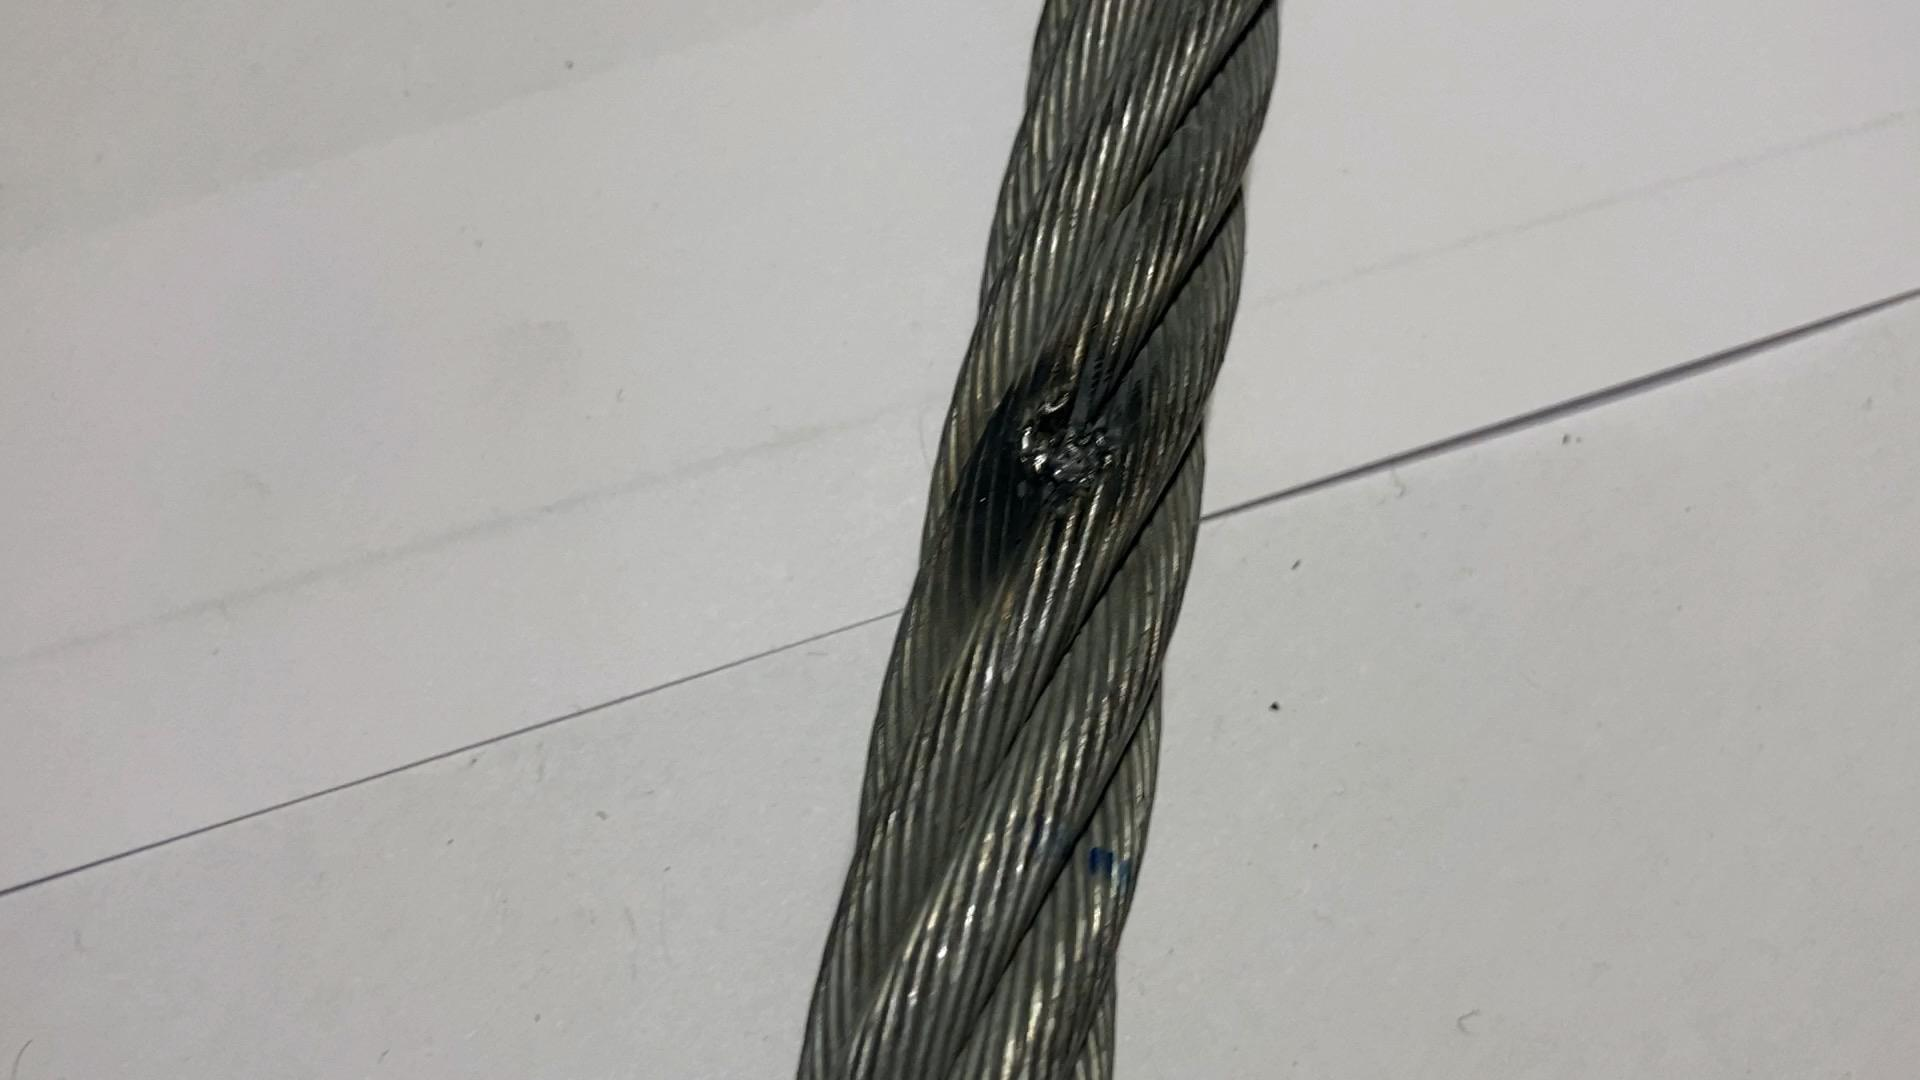thunderbolt: (1001, 347, 1154, 493)
